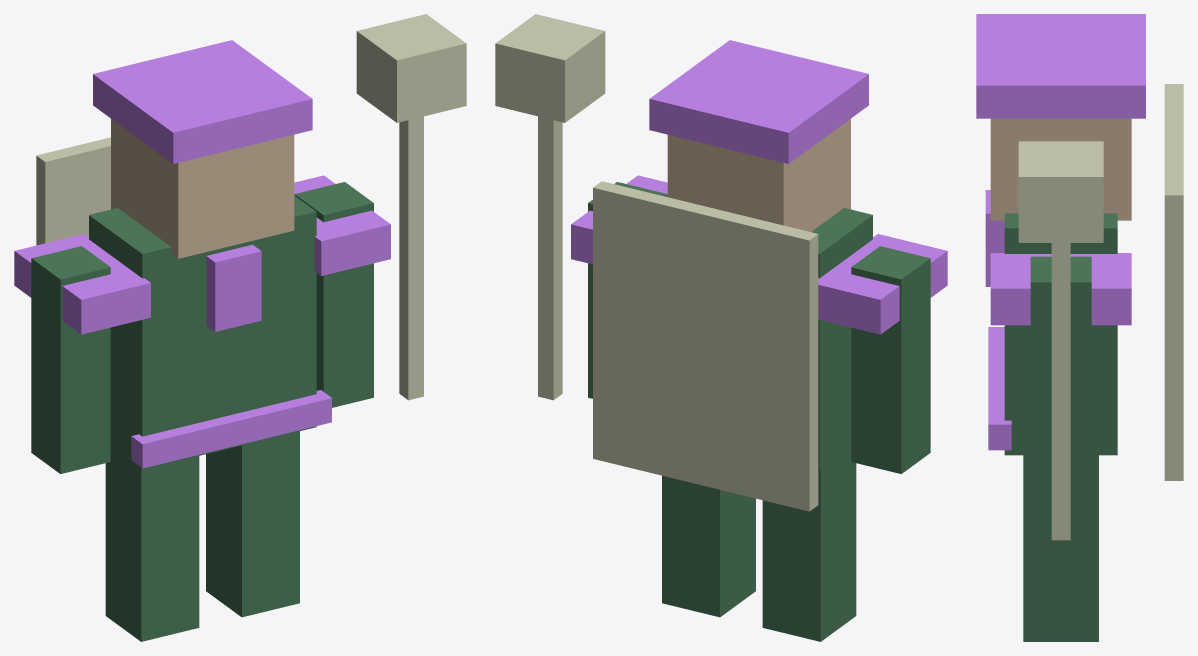
The model's file is 01_varren_voidrill_marshal_near_mycelial.glb.
3 views of the same model, side by side, from view 1: azimuth 30°, elevation 25°; view 2: azimuth 150°, elevation 25°; view 3: azimuth 270°, elevation 25° (orthographic). The views are drawn at different scales.
Parts seen in each view (by area): view 1: Varren Voidrill, Marshal near Mycelial; view 2: Varren Voidrill, Marshal near Mycelial; view 3: Varren Voidrill, Marshal near Mycelial.
Boxes of the visible parts, <box> form: Varren Voidrill, Marshal near Mycelial: <box>14,14,466,641</box>; Varren Voidrill, Marshal near Mycelial: <box>495,14,947,641</box>; Varren Voidrill, Marshal near Mycelial: <box>976,14,1183,641</box>.
Bounding box in the file's own units: 1.12 × 1.4 × 0.4765.
